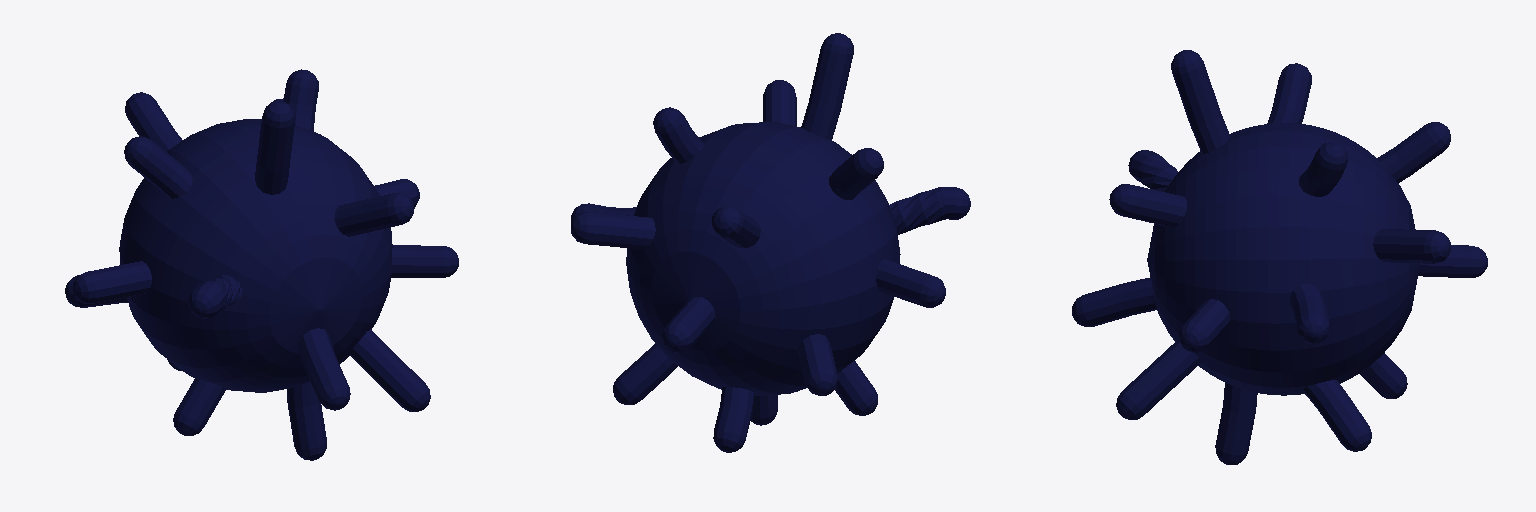
File: bomba.obj
3 renders of one model, left to right at view 1: azimuth 30°, elevation 25°; view 2: azimuth 150°, elevation 25°; view 3: azimuth 270°, elevation 25°, orthographic.
Parts seen in each view (by area): view 1: p.0034, s.0064, s.0050, s.0046, s.0049, s.0042, s.0040, s.0056, s.0053, s.0058, s.0038, s.0055 (+2 smaller); view 2: p.0034, s.0050, s.0052, s.0055, s.0049, s.0045, s.0063, s.0062, s.0059, s.0040, s.0043, s.0038 (+3 smaller); view 3: p.0034, s.0050, s.0064, s.0046, s.0045, s.0056, s.0052, s.0042, s.0058, s.0040, s.0044, s.0043 (+4 smaller).
Boxes of the visible parts, box(x1,y1,x2,y2) form: p.0034: box(119, 119, 392, 392); s.0064: box(350, 329, 430, 411); s.0050: box(255, 101, 295, 194); s.0046: box(298, 328, 350, 410); s.0049: box(73, 261, 151, 303); s.0042: box(334, 193, 414, 236); s.0040: box(124, 136, 192, 198); s.0056: box(287, 381, 326, 460); s.0053: box(391, 245, 458, 277); s.0058: box(125, 92, 182, 151); s.0038: box(173, 378, 225, 435); s.0055: box(188, 275, 242, 318); p.0034: box(626, 122, 900, 395); s.0050: box(801, 33, 853, 139); s.0052: box(571, 212, 655, 249); s.0055: box(889, 187, 970, 234); s.0049: box(876, 259, 945, 307); s.0045: box(613, 343, 677, 404); s.0063: box(713, 387, 754, 452); s.0062: box(662, 297, 715, 352); s.0059: box(798, 334, 837, 395); s.0040: box(829, 148, 883, 199); s.0043: box(653, 107, 703, 163); s.0038: box(835, 361, 877, 415); p.0034: box(1147, 123, 1419, 395); s.0050: box(1171, 50, 1230, 153); s.0064: box(1116, 340, 1200, 419); s.0046: box(1072, 277, 1156, 326); s.0045: box(1302, 380, 1371, 451); s.0056: box(1215, 383, 1257, 464); s.0052: box(1373, 229, 1450, 263); s.0042: box(1109, 184, 1186, 227); s.0058: box(1377, 122, 1450, 182); s.0040: box(1267, 63, 1311, 123); s.0044: box(1290, 283, 1329, 343); s.0043: box(1299, 142, 1347, 196).
Size of the model in its own units: 615 by 636 by 621.